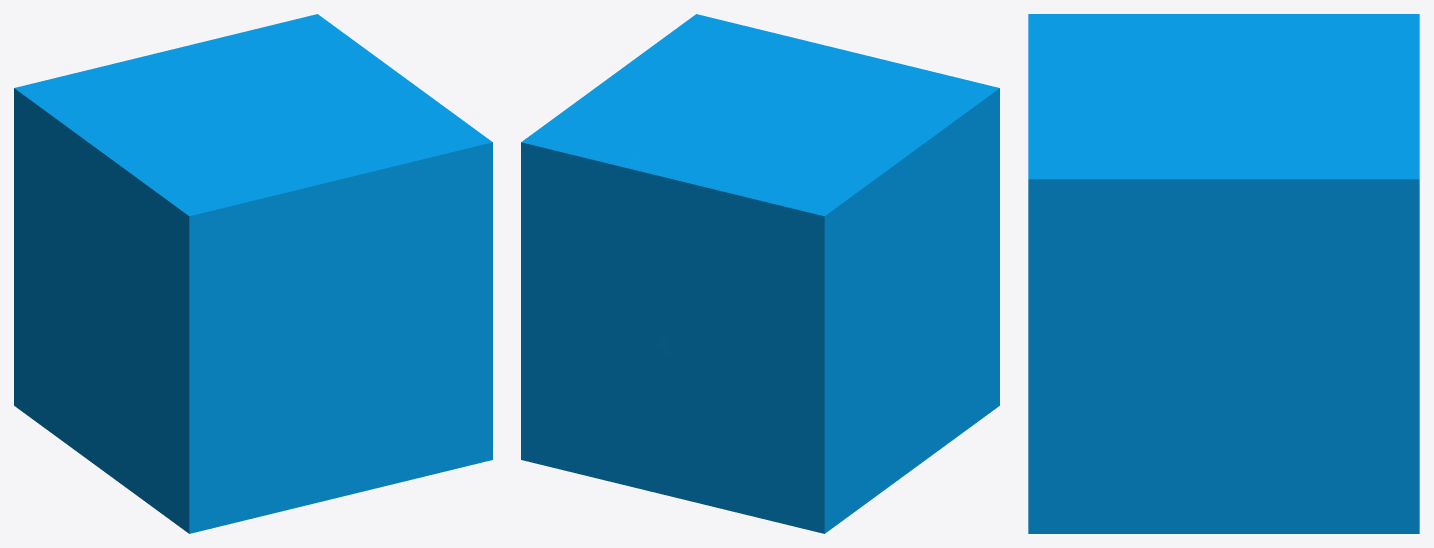
The model's file is player 3.fbx.
3 views of the same model, side by side, from view 1: azimuth 30°, elevation 25°; view 2: azimuth 150°, elevation 25°; view 3: azimuth 270°, elevation 25° (orthographic). The views are drawn at different scales.
Parts seen in each view (by area): view 1: Object, Object_cell.120, Object_cell.064, Object_cell.142, Object_cell.113, Object_cell.030, Object_cell.122, Object_cell.160, Object_cell.032, Object_cell.037, Object_cell.146, Object_cell.060 (+42 smaller); view 2: Object, Object_cell.007, Object_cell.050, Object_cell.033, Object_cell.085, Object_cell.096, Object_cell.068, Object_cell.123, Object_cell.113, Object_cell.121, Object_cell.131, Object_cell.151 (+48 smaller); view 3: Object, Object_cell.091, Object_cell.132, Object_cell.157, Object_cell.165, Object_cell.158, Object_cell.006, Object_cell.004, Object_cell.022, Object_cell.019, Object_cell.094, Object_cell.166 (+36 smaller).
Boxes of the visible parts, bbox=[...] form: Object: bbox=[14, 14, 492, 533]; Object_cell.120: bbox=[201, 261, 316, 350]; Object_cell.064: bbox=[168, 177, 286, 279]; Object_cell.142: bbox=[359, 230, 450, 335]; Object_cell.113: bbox=[138, 364, 220, 508]; Object_cell.030: bbox=[388, 272, 465, 375]; Object_cell.122: bbox=[415, 334, 492, 428]; Object_cell.160: bbox=[322, 152, 416, 224]; Object_cell.032: bbox=[278, 43, 395, 94]; Object_cell.037: bbox=[377, 114, 485, 211]; Object_cell.146: bbox=[288, 291, 391, 387]; Object_cell.060: bbox=[240, 355, 334, 464]; Object: bbox=[521, 14, 999, 533]; Object_cell.007: bbox=[702, 322, 810, 438]; Object_cell.050: bbox=[581, 157, 664, 279]; Object_cell.033: bbox=[785, 351, 891, 480]; Object_cell.085: bbox=[636, 144, 742, 233]; Object_cell.096: bbox=[521, 336, 585, 469]; Object_cell.068: bbox=[765, 450, 850, 533]; Object_cell.123: bbox=[562, 429, 676, 490]; Object_cell.113: bbox=[951, 255, 999, 399]; Object_cell.121: bbox=[586, 389, 685, 468]; Object_cell.131: bbox=[771, 417, 837, 495]; Object_cell.151: bbox=[818, 87, 951, 122]; Object: bbox=[1028, 14, 1419, 533]; Object_cell.091: bbox=[1228, 295, 1412, 420]; Object_cell.132: bbox=[1176, 170, 1314, 329]; Object_cell.157: bbox=[1295, 411, 1393, 533]; Object_cell.165: bbox=[1064, 200, 1177, 300]; Object_cell.158: bbox=[1067, 458, 1188, 533]; Object_cell.006: bbox=[1160, 400, 1244, 523]; Object_cell.004: bbox=[1088, 298, 1228, 386]; Object_cell.022: bbox=[1252, 401, 1334, 530]; Object_cell.019: bbox=[1119, 155, 1224, 256]; Object_cell.094: bbox=[1300, 225, 1417, 331]; Object_cell.166: bbox=[1162, 38, 1253, 92].
Size of the model in its own units: 2 by 2 by 2.
